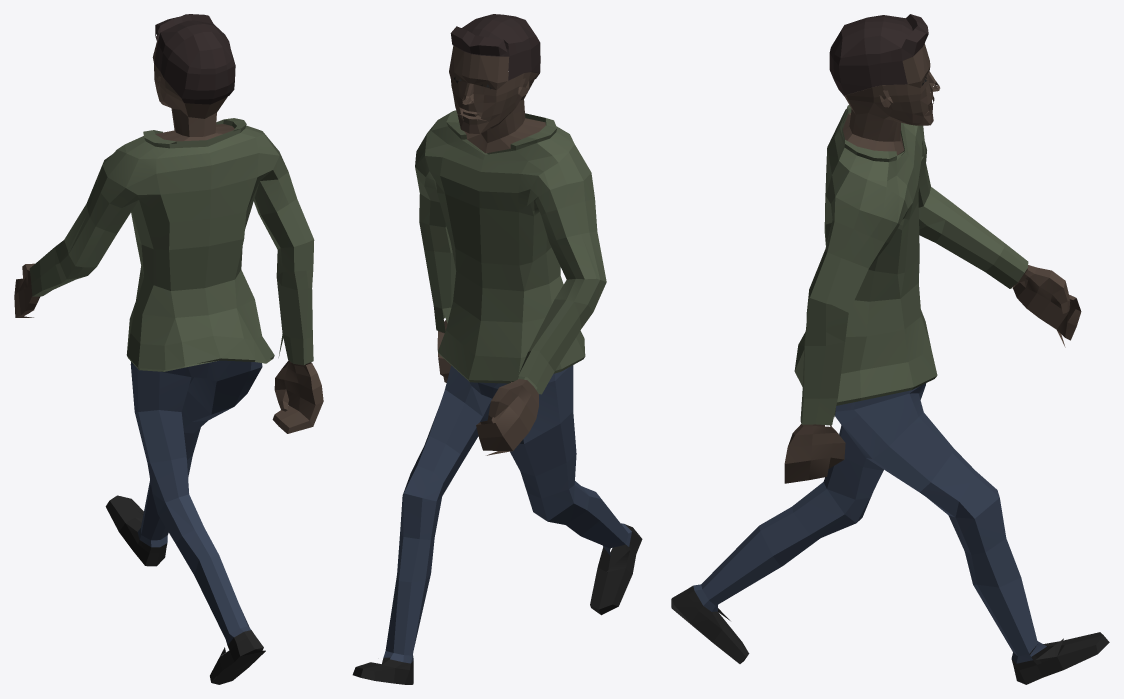
Rendered from person_1_w3.fbx.
3 renders of one model, left to right at view 1: azimuth 30°, elevation 25°; view 2: azimuth 150°, elevation 25°; view 3: azimuth 270°, elevation 25°, orthographic. The views are drawn at different scales.
Parts seen in each view (by area): view 1: BaseHuman; view 2: BaseHuman; view 3: BaseHuman.
Part boxes in pixels (x1,y1,x2,y2): BaseHuman: (14,14,323,684); BaseHuman: (352,14,642,684); BaseHuman: (671,14,1109,684).
Size of the model in its own units: 0.3508 by 1 by 0.601.
